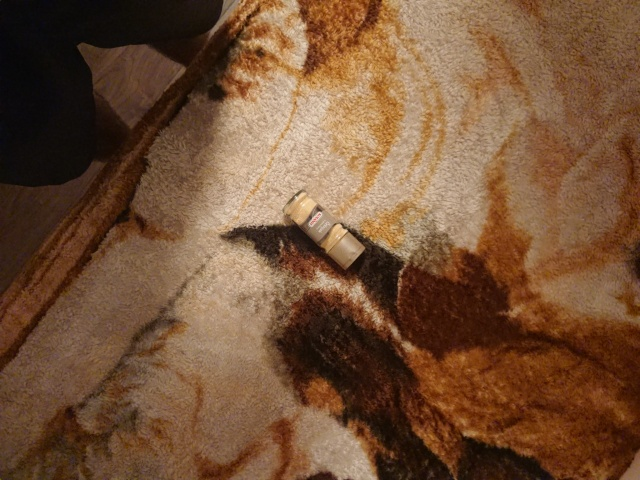Kotanyi Garlic Granules 70g: (280, 188, 369, 273)
